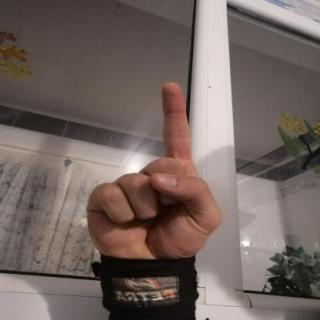BAA: (76, 76, 229, 270)
